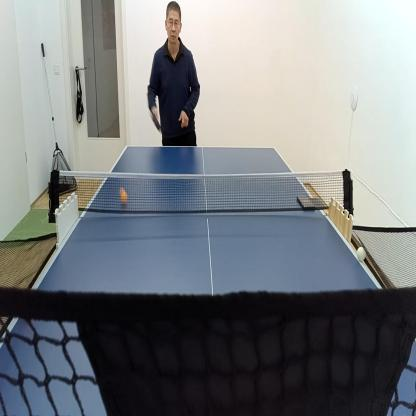Ball: (119, 187, 128, 204), (357, 247, 366, 262)
